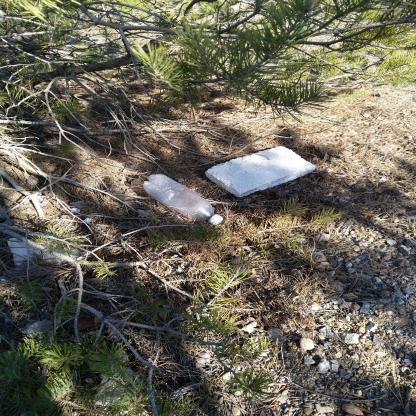kopuk: (206, 146, 316, 198)
plastik: (142, 174, 224, 226)
